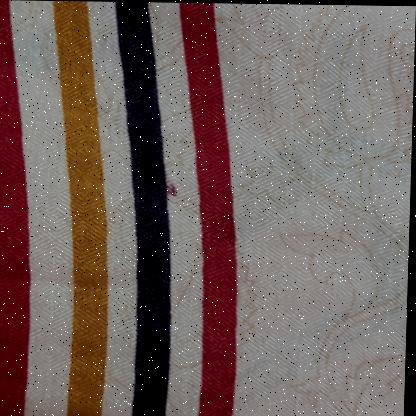spot: (159, 179, 183, 199)
